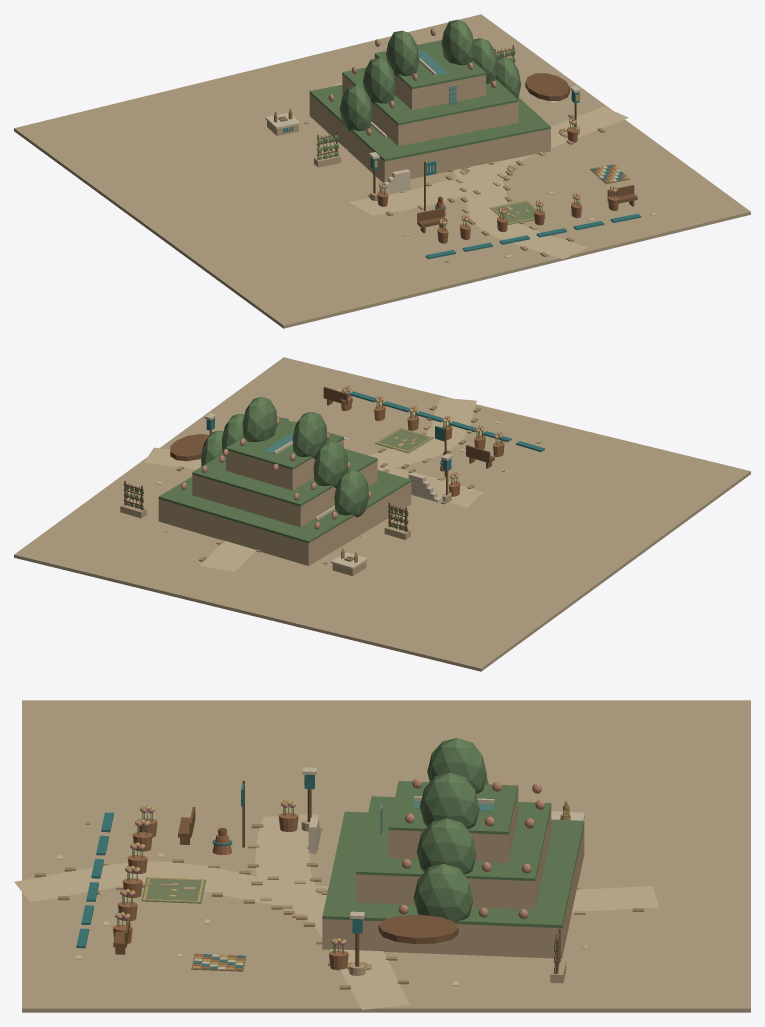
Rendered from city-gardens.glb.
3 renders of one model, top to bottom at view 1: azimuth 30°, elevation 25°; view 2: azimuth 150°, elevation 25°; view 3: azimuth 270°, elevation 25°, orthographic. The views are drawn at different scales.
Parts seen in each view (by area): view 1: city-gardens; view 2: city-gardens; view 3: city-gardens.
Part boxes in pixels (x1,y1,x2,y2): city-gardens: (14, 14, 750, 328); city-gardens: (14, 357, 750, 671); city-gardens: (14, 700, 750, 1012).
Bounding box in the file's own units: 32.27 × 7.32 × 32.34.
